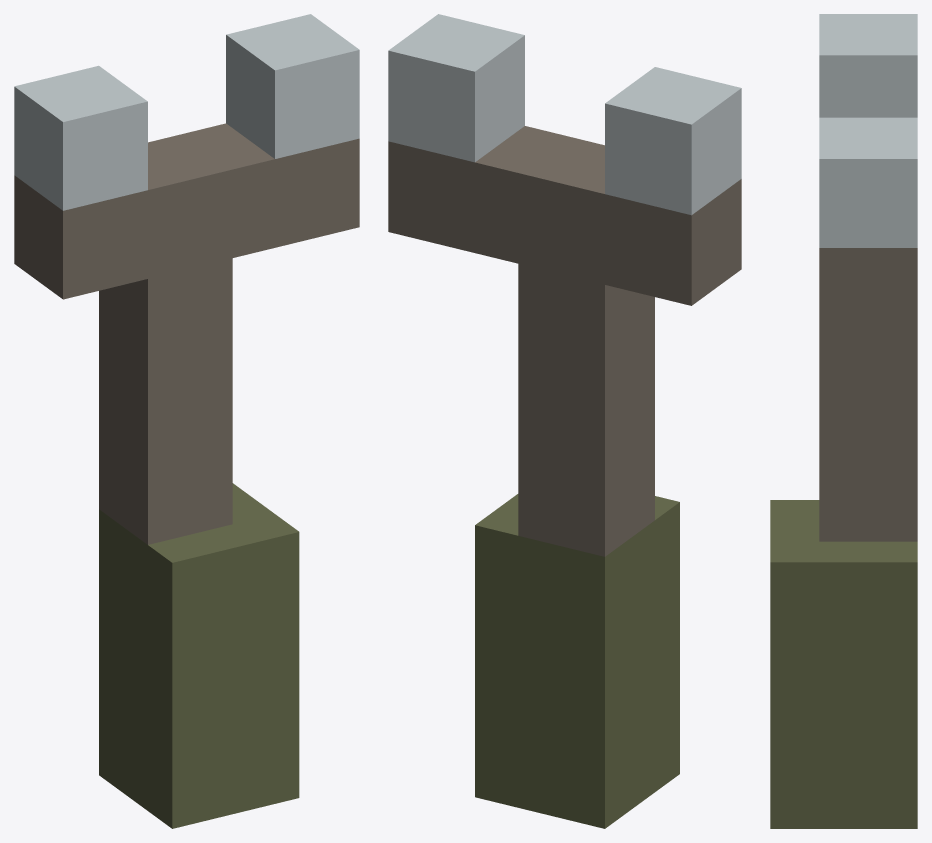
Rendered from wrench.glb.
3 views of the same model, side by side, from view 1: azimuth 30°, elevation 25°; view 2: azimuth 150°, elevation 25°; view 3: azimuth 270°, elevation 25° (orthographic). The views are drawn at different scales.
Parts seen in each view (by area): view 1: wrench/tool; view 2: wrench/tool; view 3: wrench/tool.
Part boxes in pixels (x1,y1,x2,y2): wrench/tool: [14, 14, 359, 828]; wrench/tool: [388, 14, 741, 828]; wrench/tool: [770, 14, 917, 828].
Size of the model in its own units: 0.2188 by 0.5 by 0.0938.
